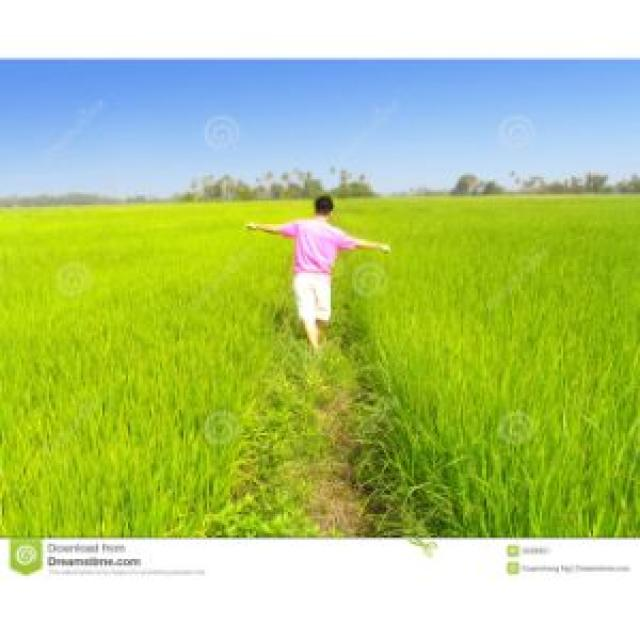nonfall: (260, 172, 374, 358)
